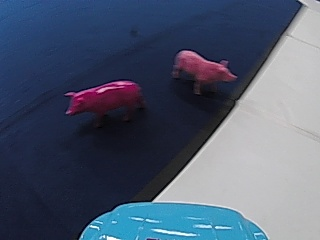pig: (60, 75, 146, 123), (172, 47, 239, 93)
